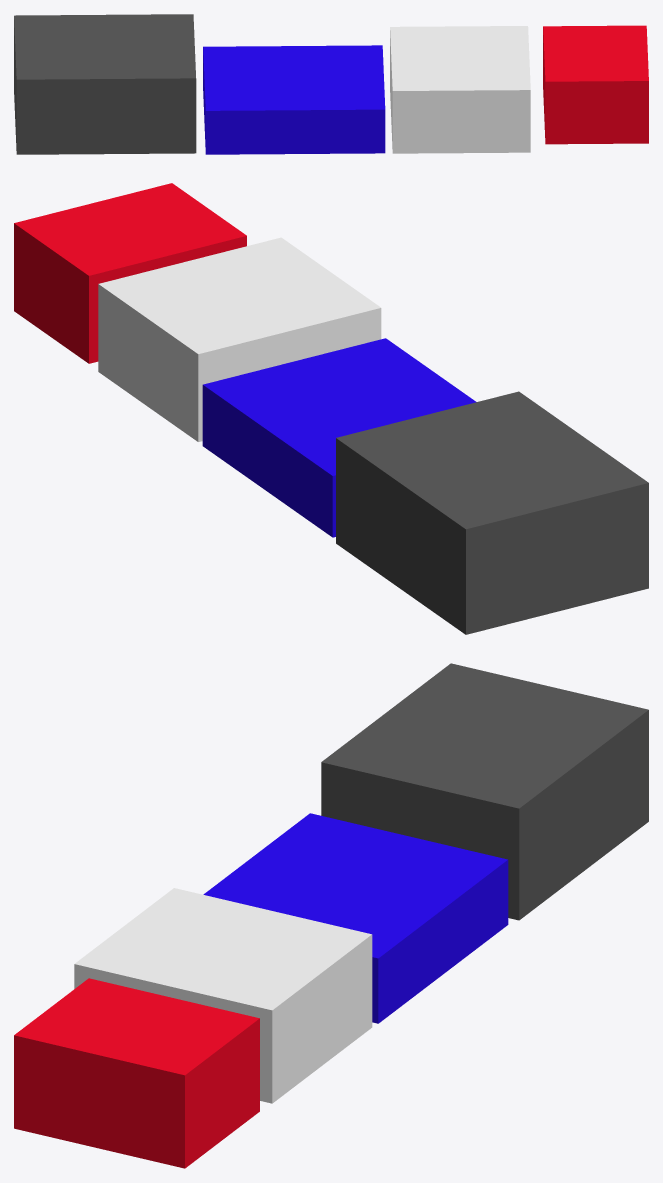
File: Batiments.glb
The picture shows the model from 3 angles, top to bottom: view 1: azimuth 30°, elevation 25°; view 2: azimuth 150°, elevation 25°; view 3: azimuth 270°, elevation 25°; orthographic projection. The views are drawn at different scales.
Parts seen in each view (by area): view 1: Batiment1, Batiment2, Batiment3, Batiment4; view 2: Batiment1, Batiment3, Batiment2, Batiment4; view 3: Batiment1, Batiment4, Batiment3, Batiment2.
Part boxes in pixels (x1,y1,x2,y2): Batiment1: (14,14,196,154); Batiment2: (203,45,385,154); Batiment3: (390,26,530,153); Batiment4: (543,25,648,144); Batiment1: (336,391,648,634); Batiment3: (98,237,381,441); Batiment2: (202,338,476,537); Batiment4: (14,183,246,363); Batiment1: (321,663,648,920); Batiment4: (14,978,259,1168); Batiment3: (74,888,372,1103); Batiment2: (203,813,508,1023).
Size of the model in its own units: 1.81 by 0.24 by 1.23.
